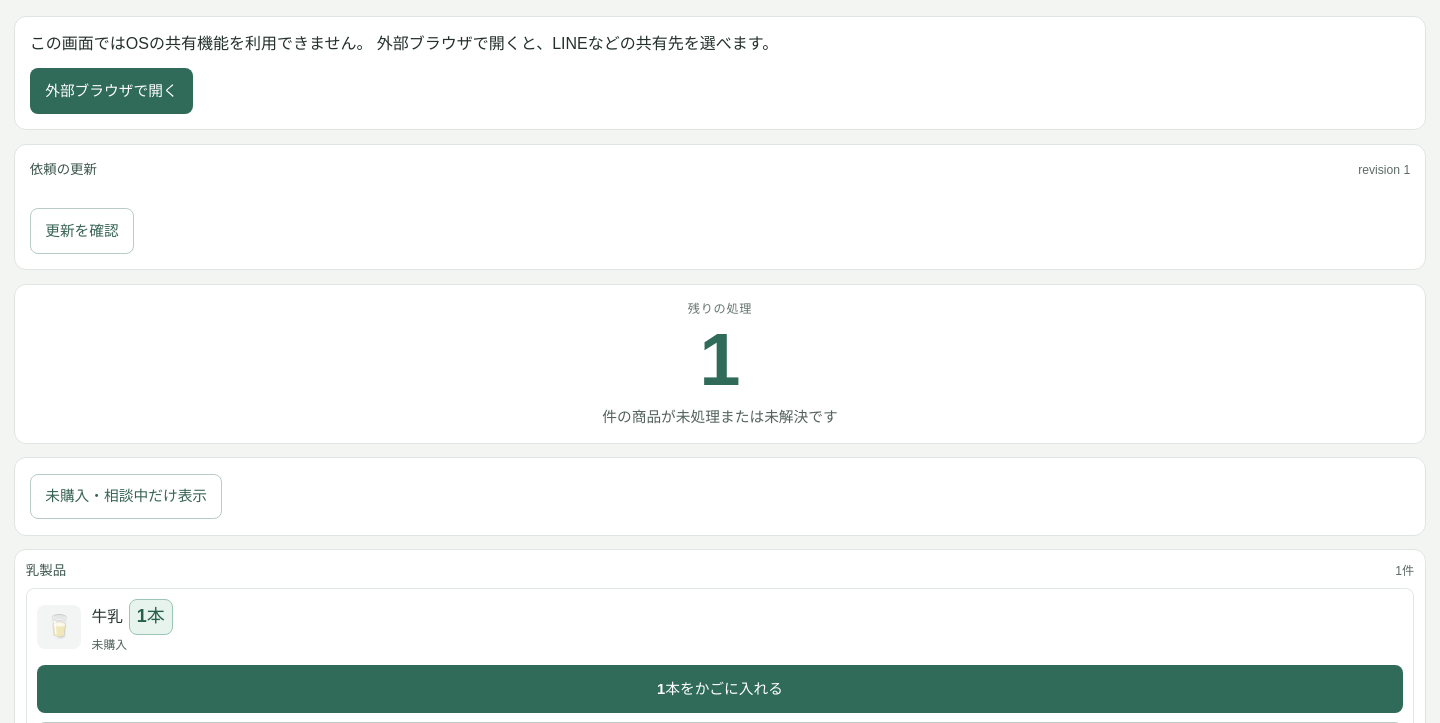
ShoppingListPage live request synchronization › checks for new items when entering checkout and again immediately before finishing
The width and height of the screenshot is (1440, 723).
Click the button "1本をかごに入れる" at {"x": 720, "y": 689}, box x1=37 y1=665 x2=1403 y2=713
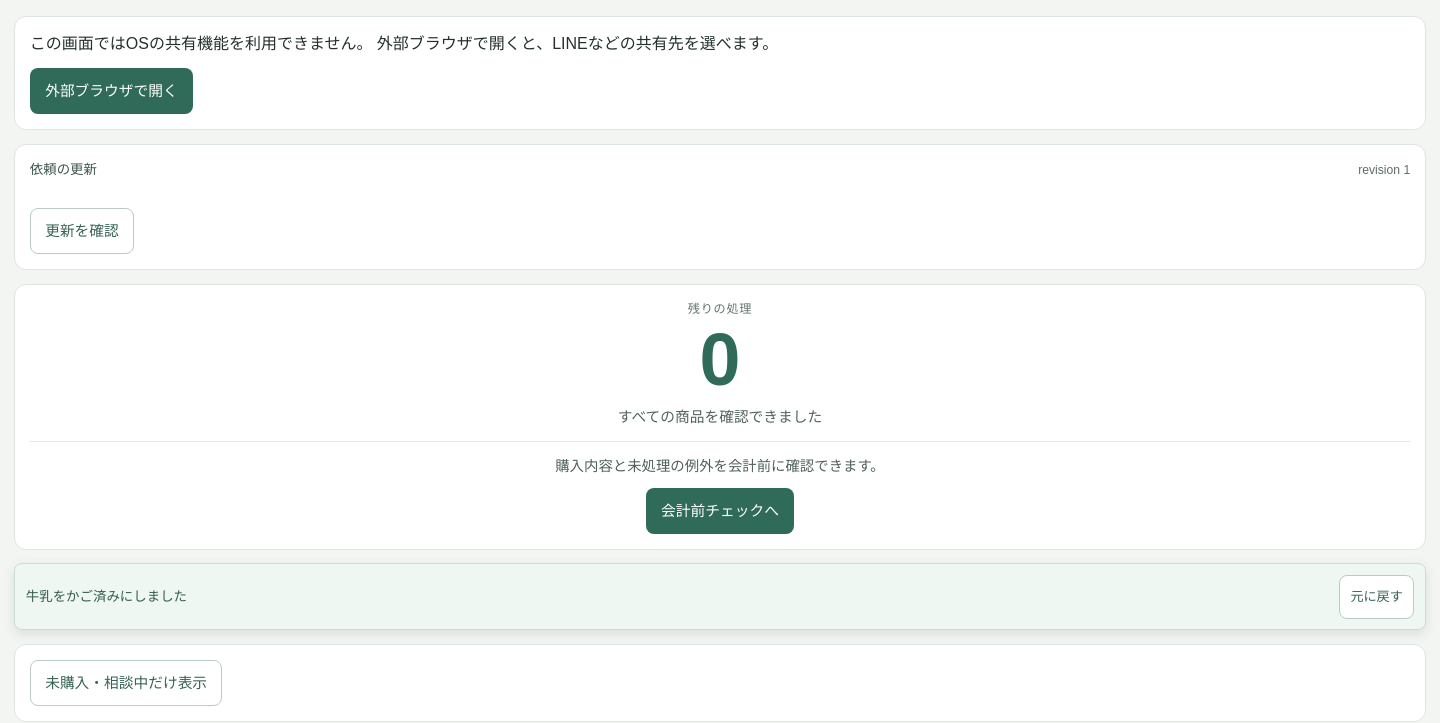
Click the button "会計前チェックへ" at {"x": 720, "y": 511}, box x1=646 y1=488 x2=794 y2=534
(page scrolled)
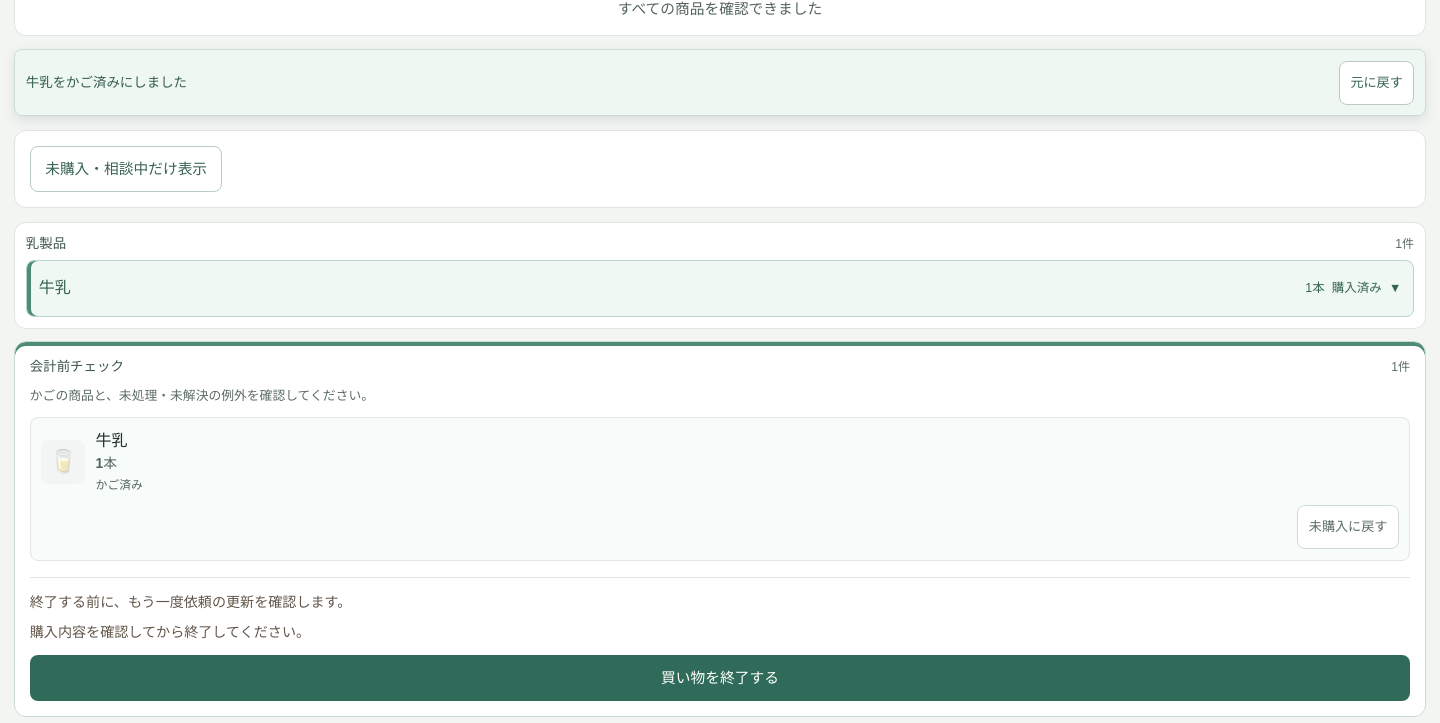
Click the button "買い物を終了する" at {"x": 720, "y": 678}, box x1=30 y1=655 x2=1410 y2=701
(page scrolled)
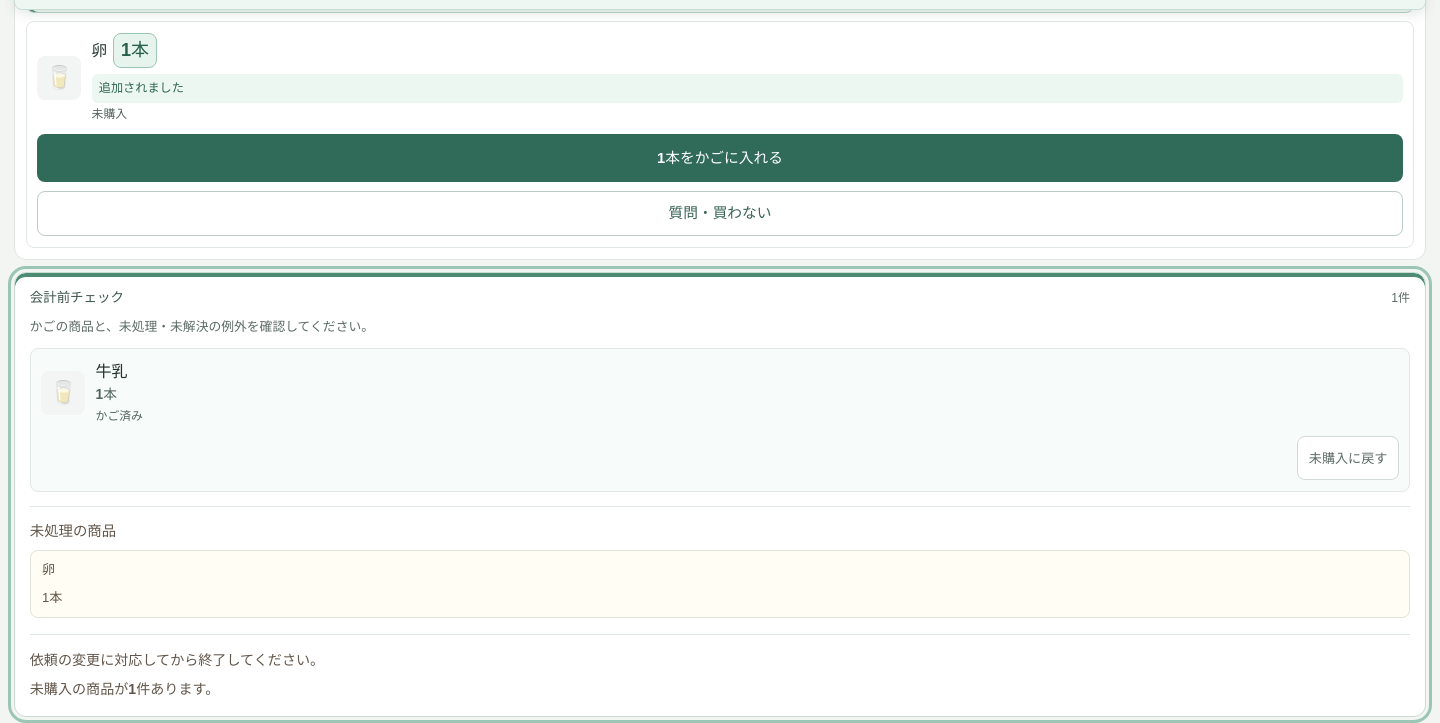
Check: the text "卵" is shown, box x1=92 y1=39 x2=107 y2=62
Check: the text "未処理の商品" is shown, box x1=30 y1=523 x2=116 y2=539
